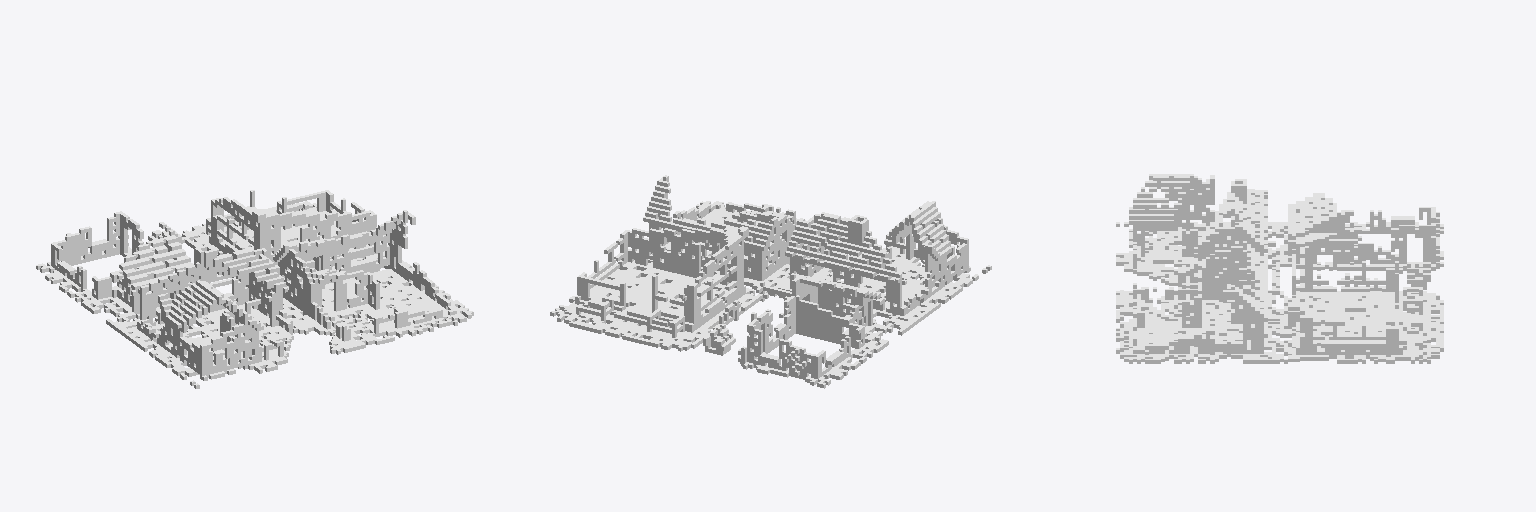
File: building_small_11_destroyed.obj
3 views of the same model, side by side, from view 1: azimuth 30°, elevation 25°; view 2: azimuth 150°, elevation 25°; view 3: azimuth 270°, elevation 25° (orthographic).
Parts seen in each view (by area): view 1: object 1; view 2: object 1; view 3: object 1.
Boxes of the visible parts, x1=… form: object 1: x1=36, y1=190, x2=473, y2=388; object 1: x1=550, y1=175, x2=991, y2=388; object 1: x1=1116, y1=174, x2=1443, y2=363.
Bounding box in the file's own units: 8 × 2.1 × 8.